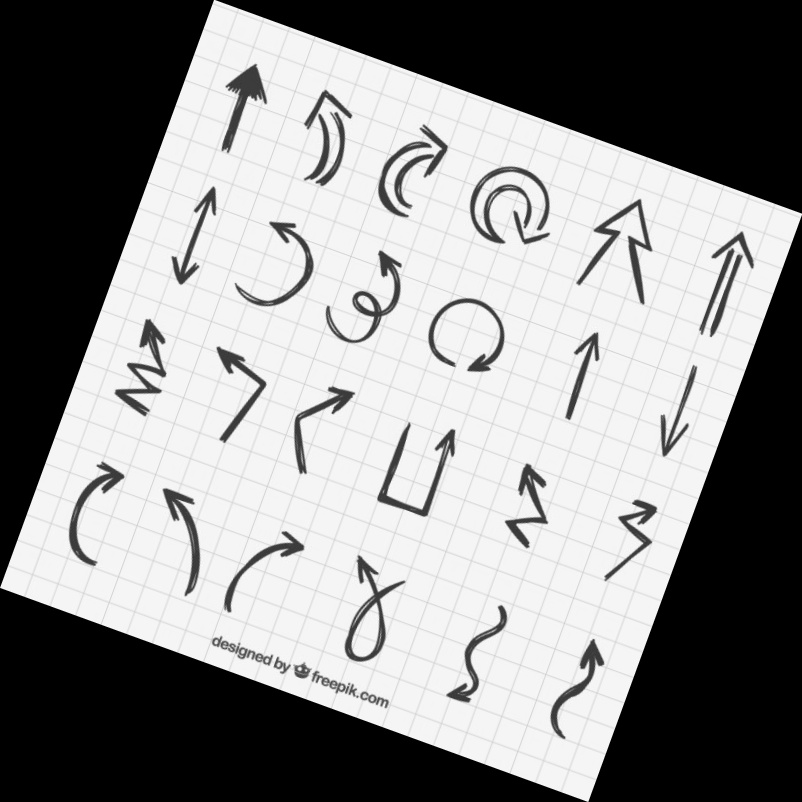arrow: (589, 195, 657, 290), (297, 90, 353, 177), (707, 231, 756, 317), (387, 124, 448, 191), (222, 63, 274, 140), (510, 197, 561, 254), (652, 391, 693, 460), (75, 459, 124, 515), (568, 331, 607, 401), (185, 185, 222, 253), (157, 485, 198, 546), (425, 426, 459, 495), (464, 327, 511, 376), (302, 384, 359, 422), (265, 217, 312, 263), (513, 463, 554, 515), (207, 345, 259, 385), (248, 531, 307, 564), (443, 667, 488, 710), (575, 637, 607, 696), (134, 317, 169, 364), (376, 251, 405, 307), (620, 492, 659, 530), (348, 554, 382, 589)
